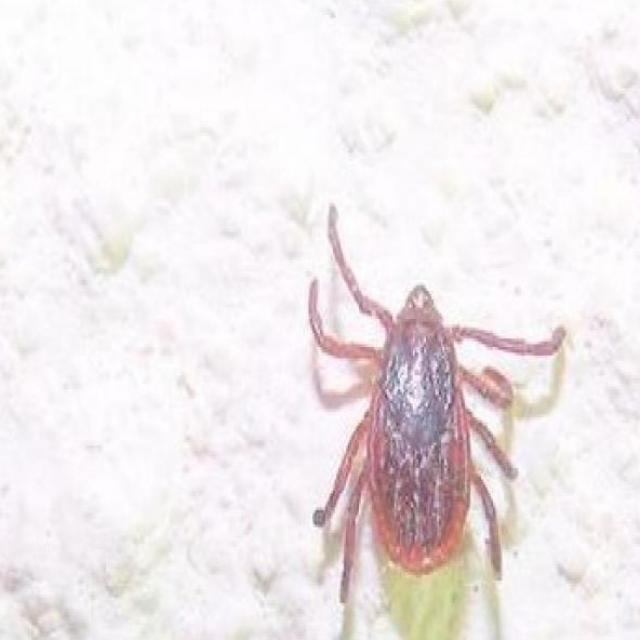Rhipicephalus Sanguineus-F: (307, 206, 567, 603)
